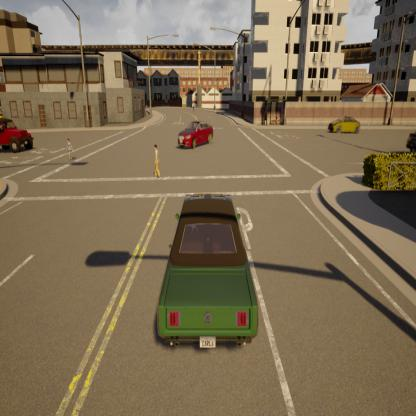Cars: (156, 195, 258, 347), (0, 116, 33, 153), (177, 121, 214, 148), (328, 117, 360, 134), (192, 99, 196, 111)
Pedestrian: (152, 143, 161, 179), (66, 138, 74, 163)
